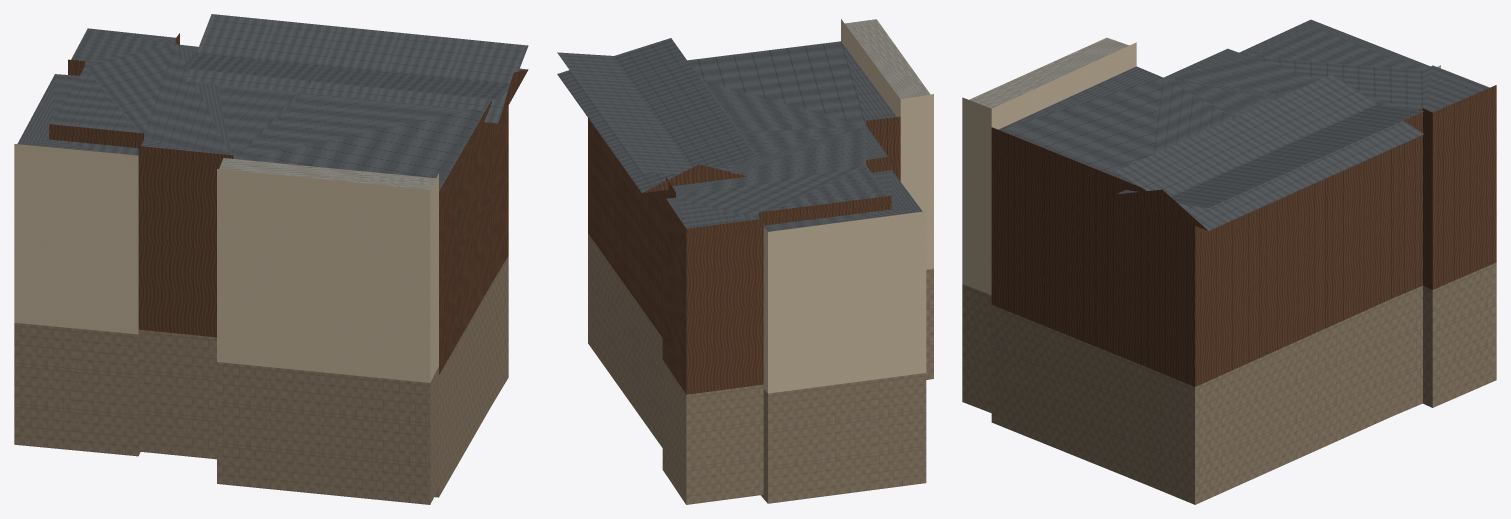
File: bld_c9_7_506.gltf
3 views of the same model, side by side, from view 1: azimuth 30°, elevation 25°; view 2: azimuth 150°, elevation 25°; view 3: azimuth 270°, elevation 25° (orthographic). The views are drawn at different scales.
Parts seen in each view (by area): view 1: bld_c9_7_506; view 2: bld_c9_7_506; view 3: bld_c9_7_506.
Boxes of the visible parts, x1,y1,x2,y2 form: bld_c9_7_506: [14, 14, 528, 504]; bld_c9_7_506: [557, 19, 933, 504]; bld_c9_7_506: [962, 19, 1496, 504].
Bounding box in the file's own units: 20.2 × 13.78 × 20.96.
Materials: 7 (7 with a texture image).
